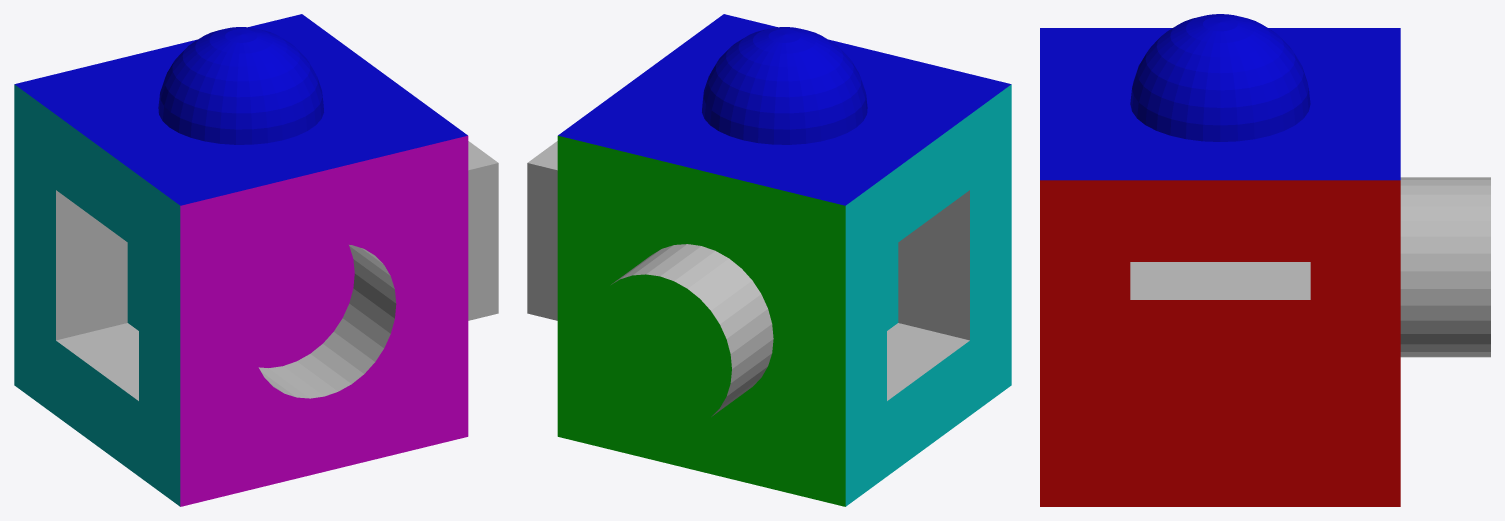
File: OrientationCube.dae
3 views of the same model, side by side, from view 1: azimuth 30°, elevation 25°; view 2: azimuth 150°, elevation 25°; view 3: azimuth 270°, elevation 25° (orthographic). The views are drawn at different scales.
Parts seen in each view (by area): view 1: Cube; view 2: Cube; view 3: Cube.
Boxes of the visible parts, bbox=[...] form: Cube: bbox=[14, 14, 498, 506]; Cube: bbox=[527, 14, 1011, 506]; Cube: bbox=[1040, 14, 1490, 506].
Size of the model in its own units: 1.25 by 1.25 by 1.25.
